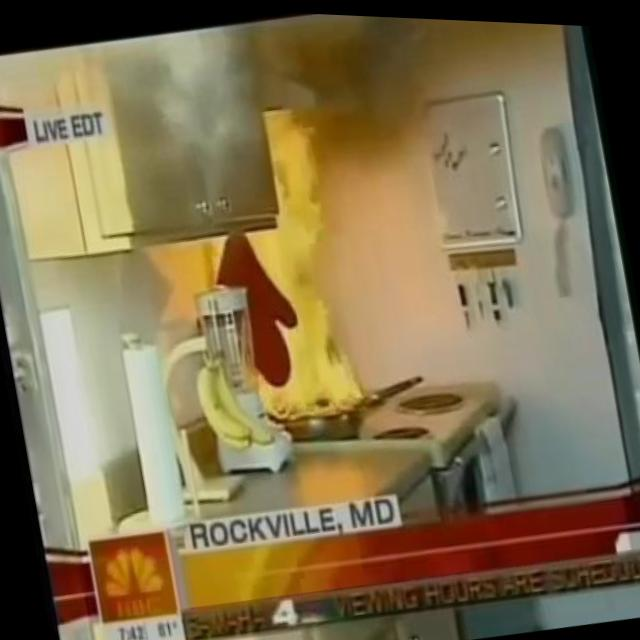fire: (185, 92, 388, 426)
